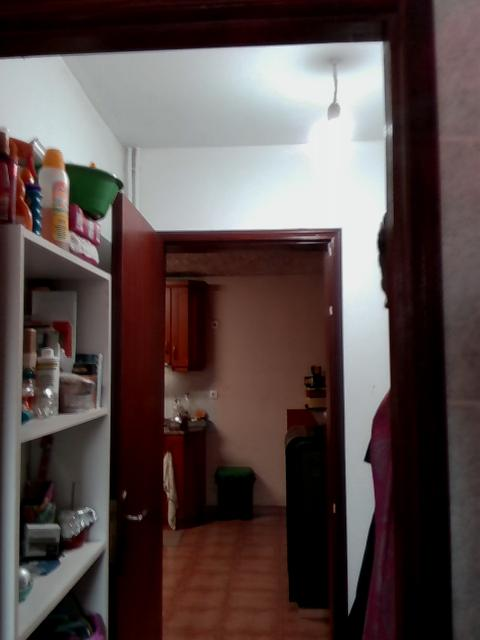open_door: (143, 226, 348, 638)
